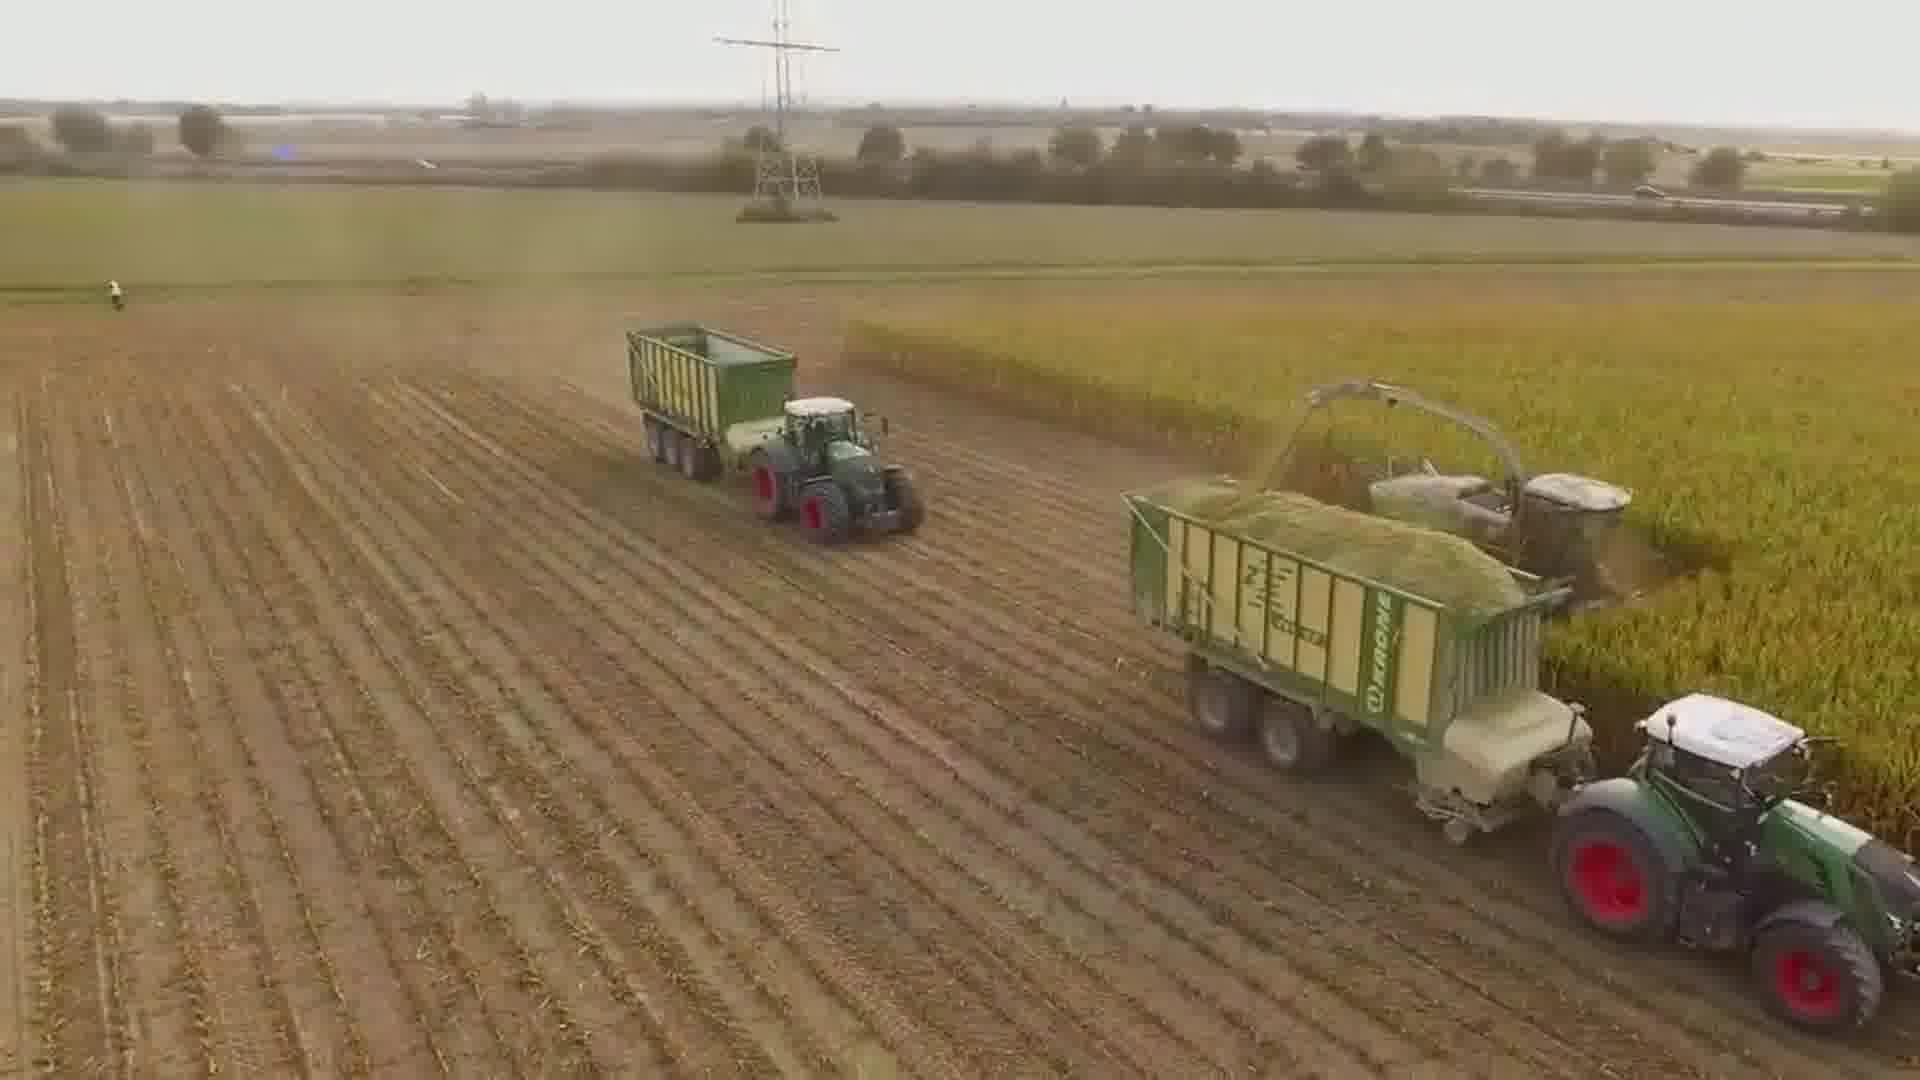combine harvester: (1295, 369, 1655, 634)
tractor: (1544, 683, 1920, 1040), (744, 390, 932, 553)
trailer: (1120, 467, 1593, 840), (626, 318, 803, 485)
